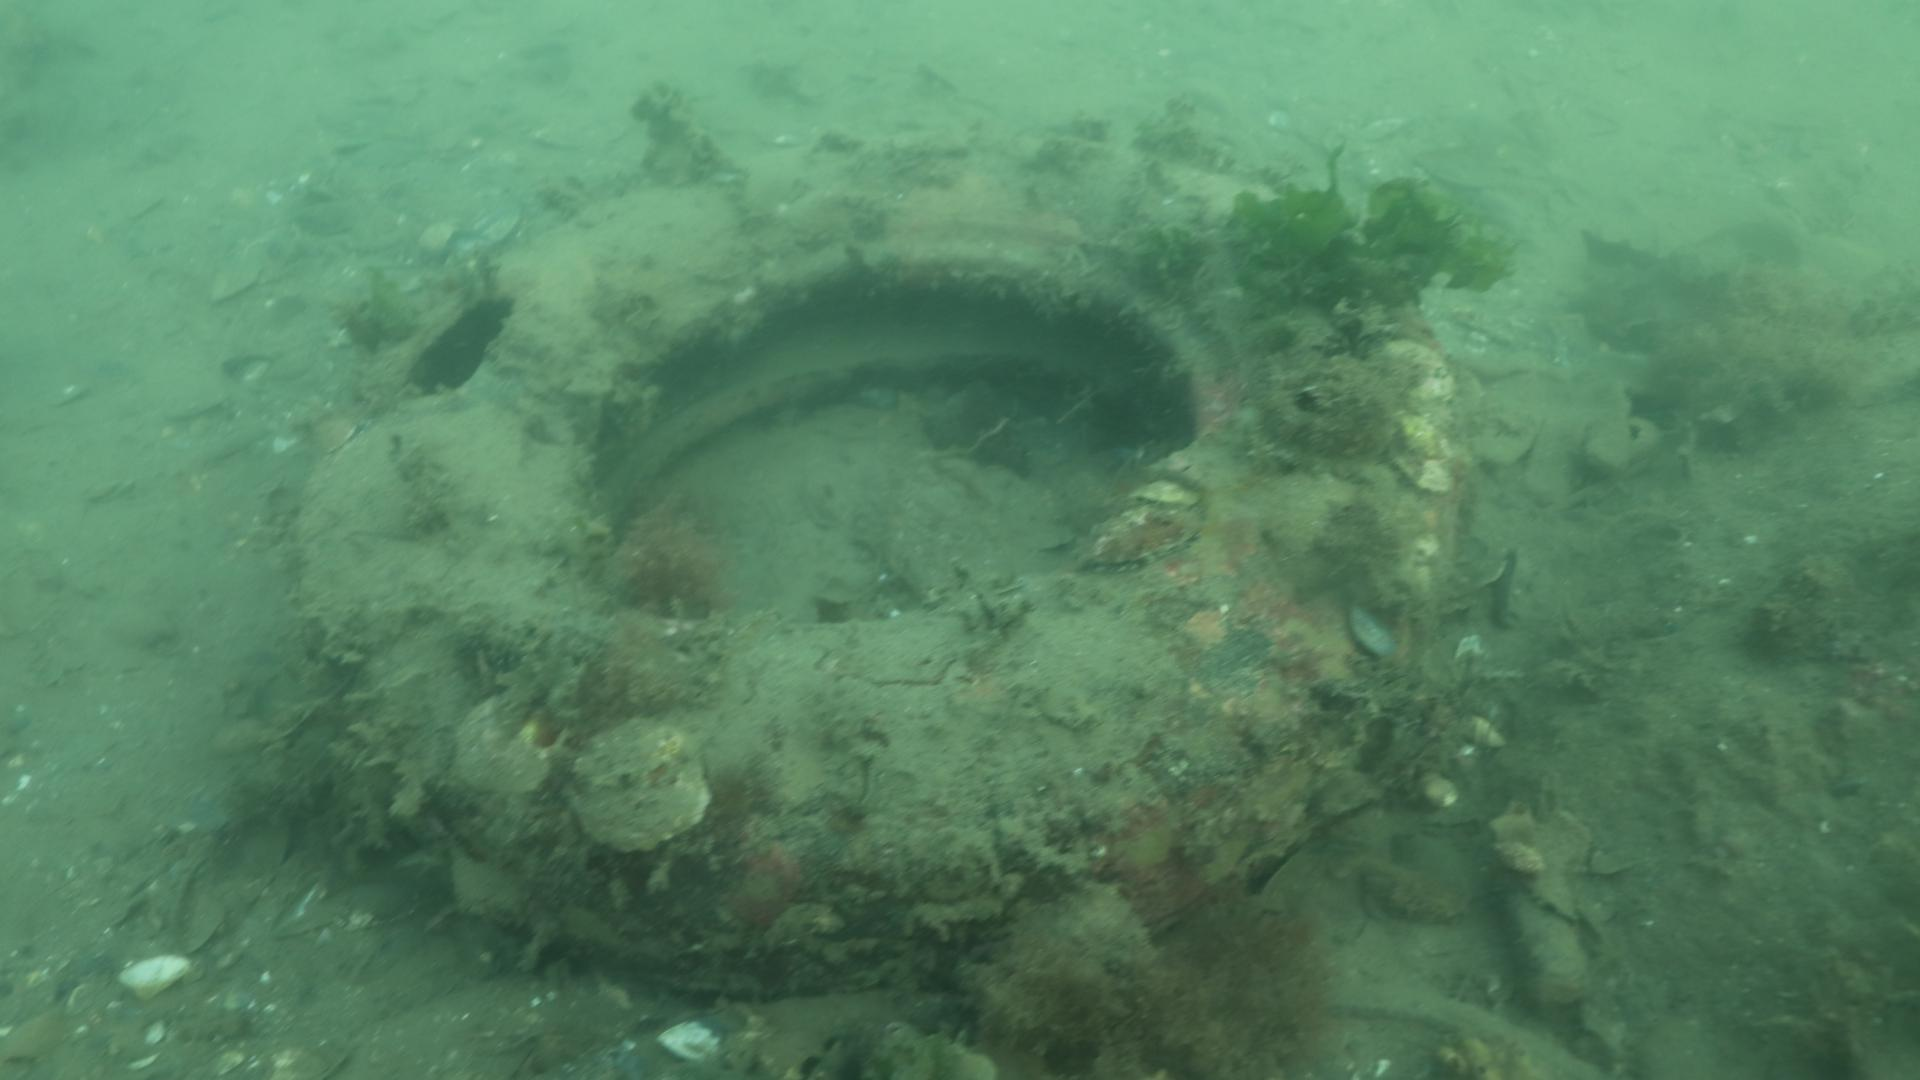tire: (297, 129, 1460, 1004)
